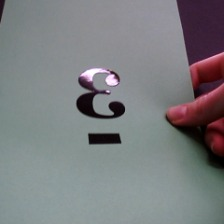green3: (70, 62, 139, 157)
